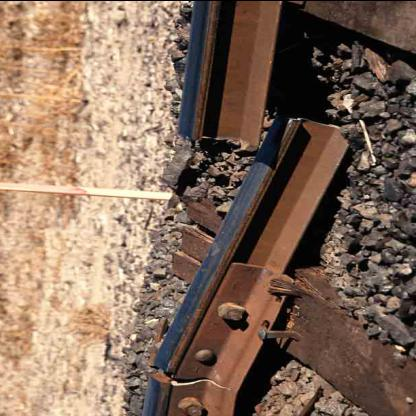Defective 2: (144, 92, 361, 210), (116, 348, 272, 414)
